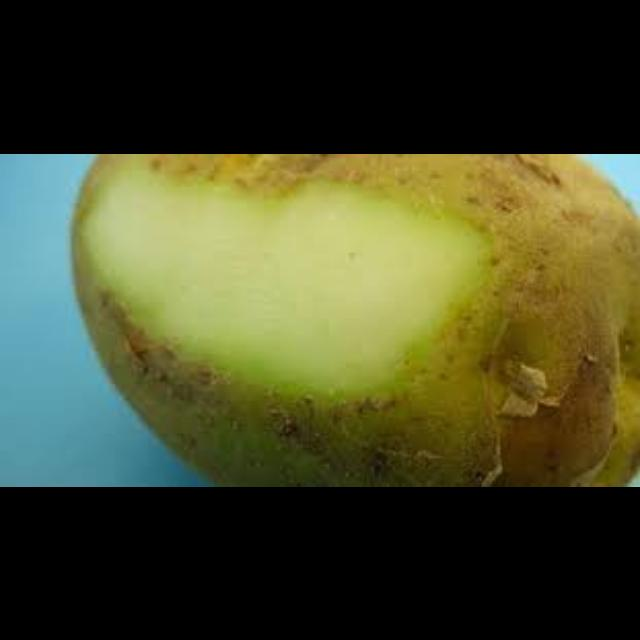Defected potato: (74, 154, 640, 486)
